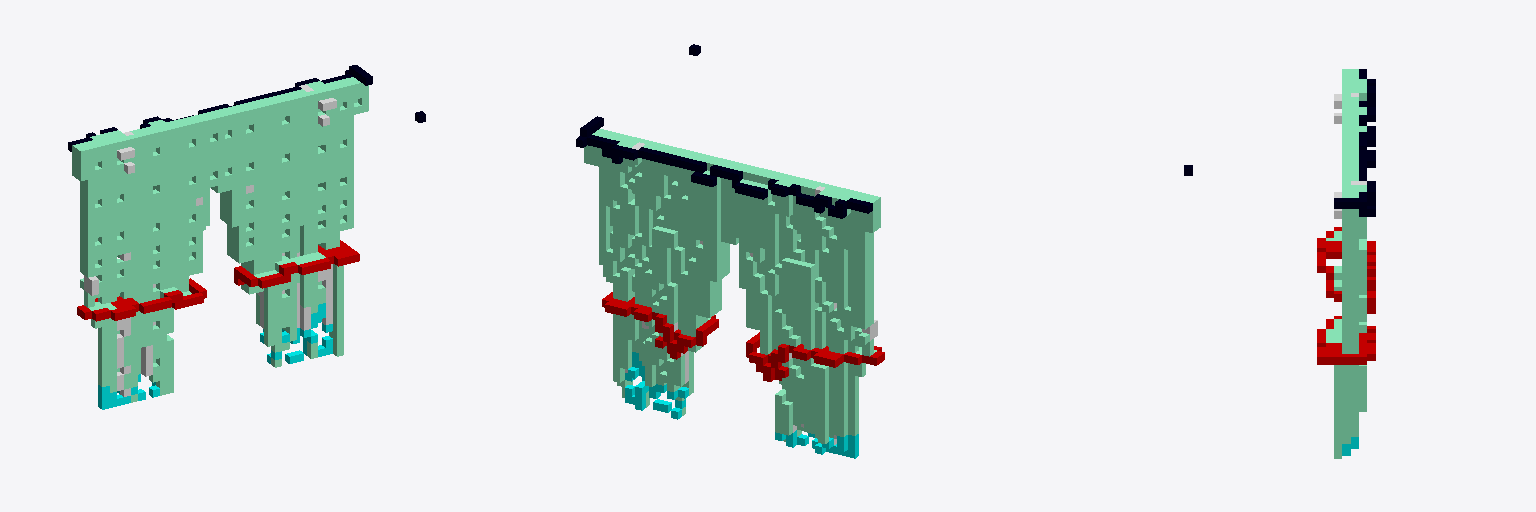
3 views of the same model, side by side, from view 1: azimuth 30°, elevation 25°; view 2: azimuth 150°, elevation 25°; view 3: azimuth 270°, elevation 25° (orthographic).
Size of the model in its own units: 40 by 39 by 23.
1 materials, 1 textured.